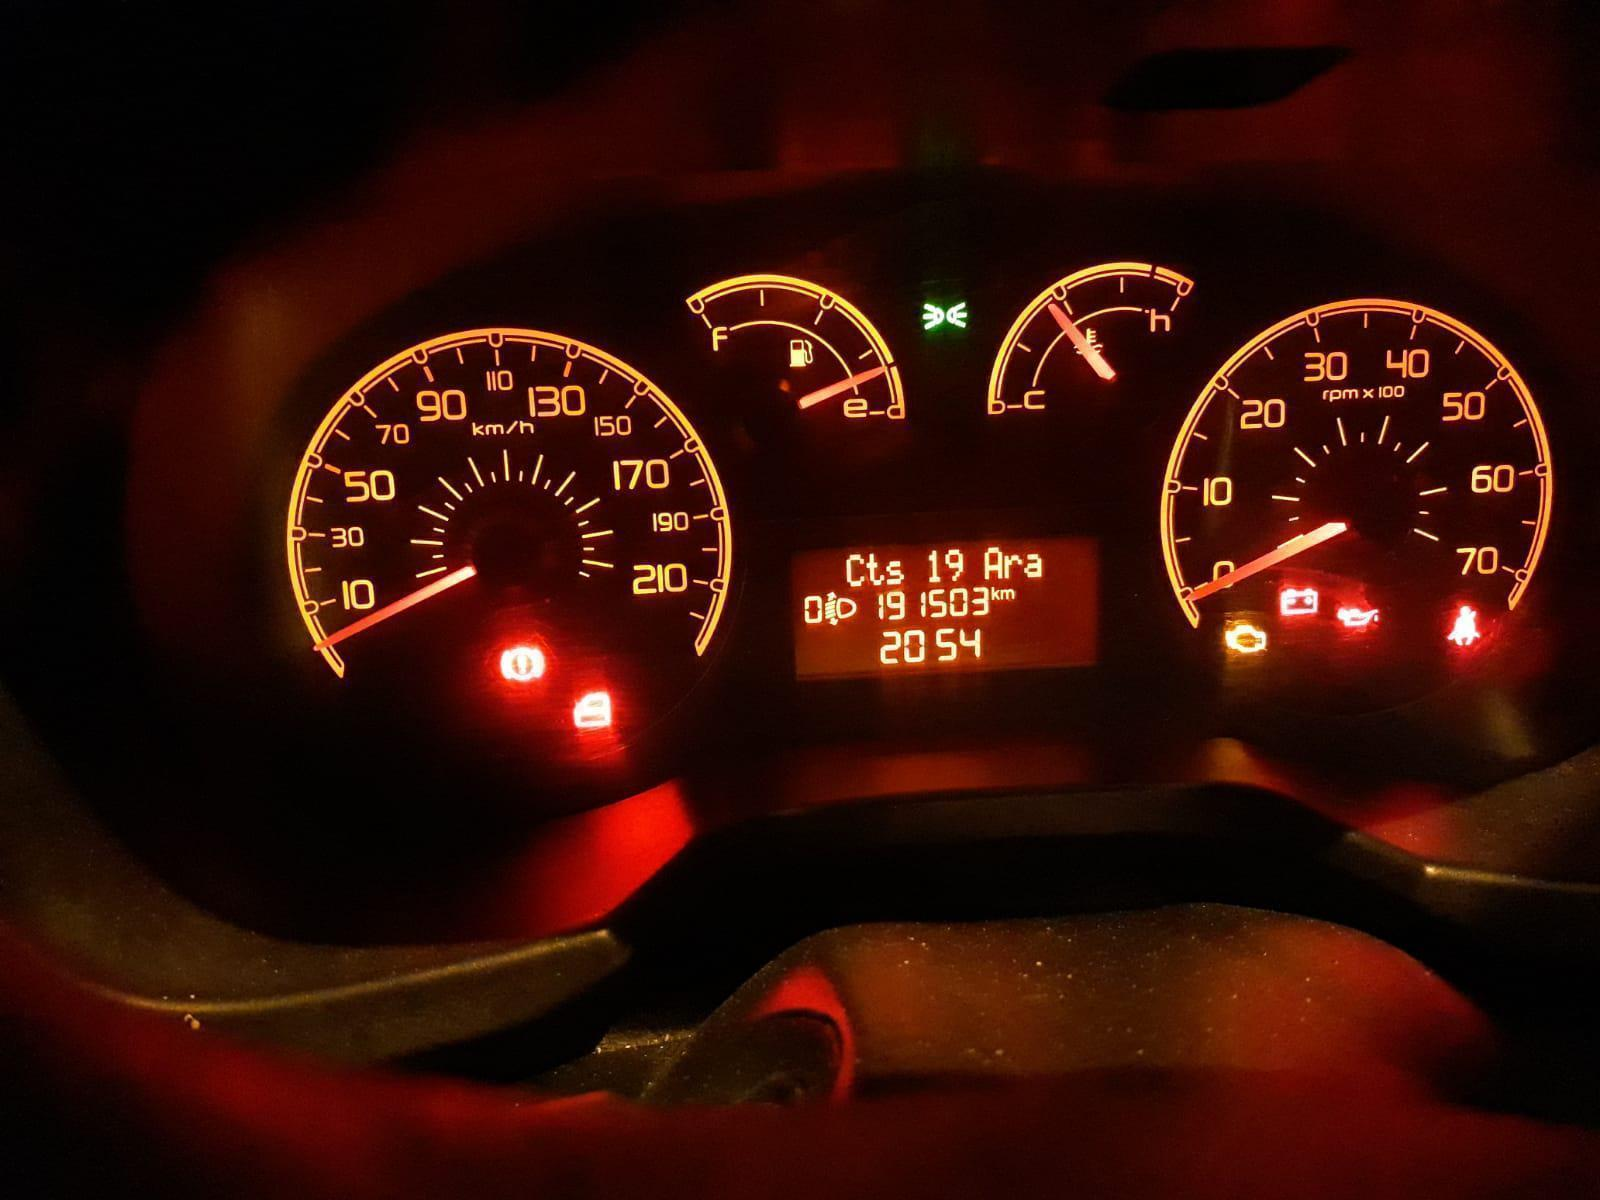0: (900, 628, 929, 663), (801, 594, 823, 625), (947, 587, 968, 619)
1: (927, 547, 944, 585), (876, 592, 884, 621), (920, 589, 927, 620)
2: (879, 628, 900, 664)
3: (971, 585, 989, 616)
4: (957, 626, 981, 658)
5: (934, 626, 957, 663), (929, 587, 947, 619)
9: (944, 546, 964, 581), (886, 590, 906, 621)
X: (843, 550, 866, 589), (863, 553, 884, 589), (983, 546, 1003, 580), (1023, 552, 1044, 581), (884, 557, 905, 586), (1004, 553, 1022, 580), (999, 587, 1015, 603), (990, 585, 999, 603)
odometer: (781, 537, 1111, 682)
